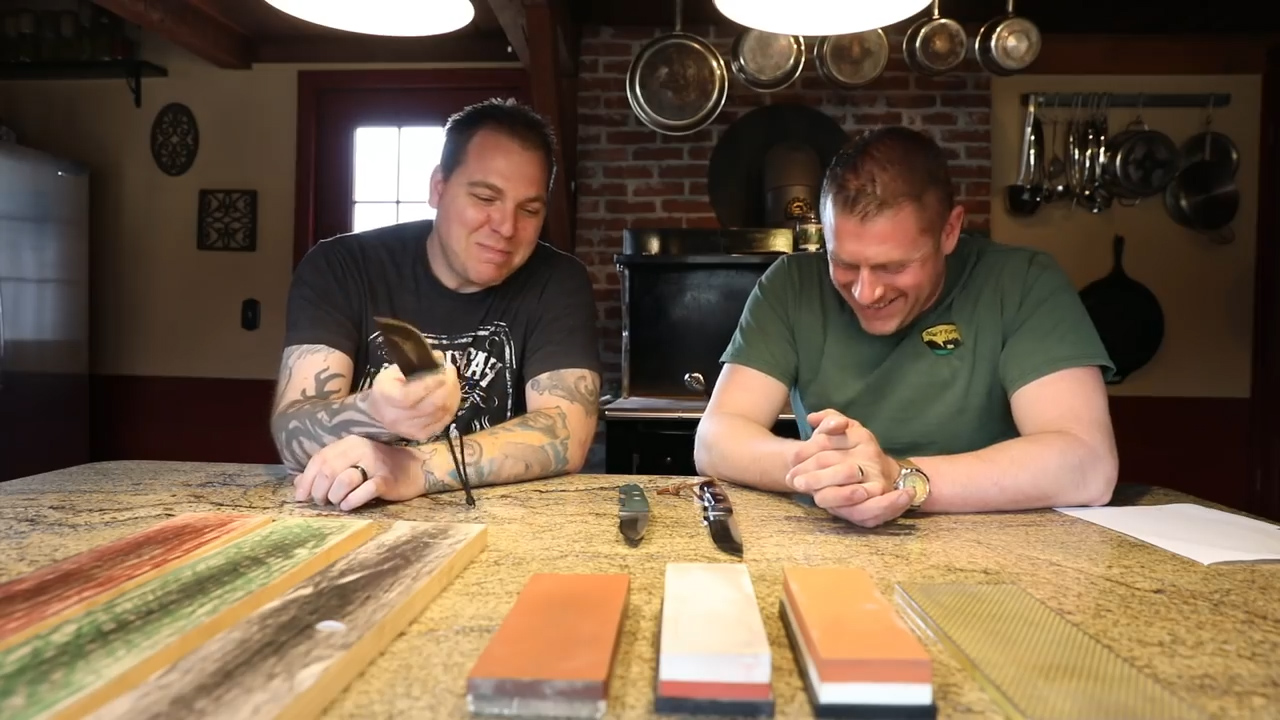knife: (362, 293, 469, 413)
